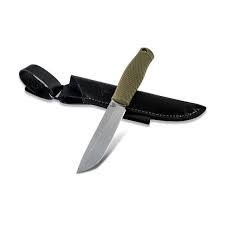knife: (71, 45, 160, 184)
